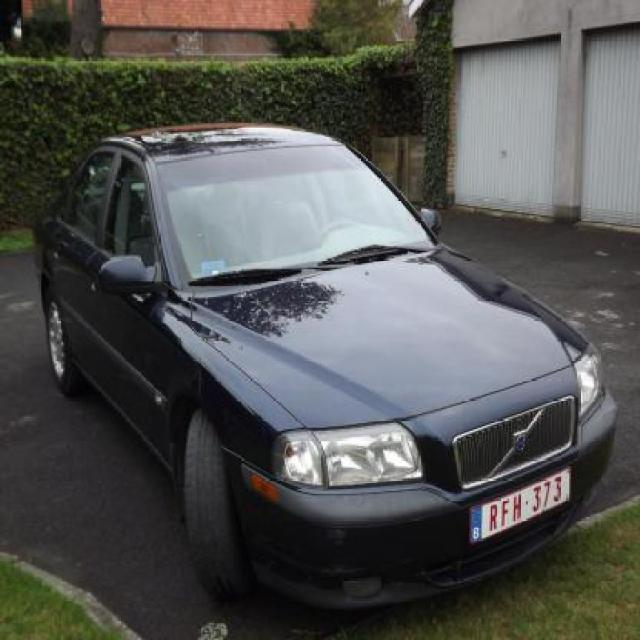License-Plates: (469, 464, 573, 546)
